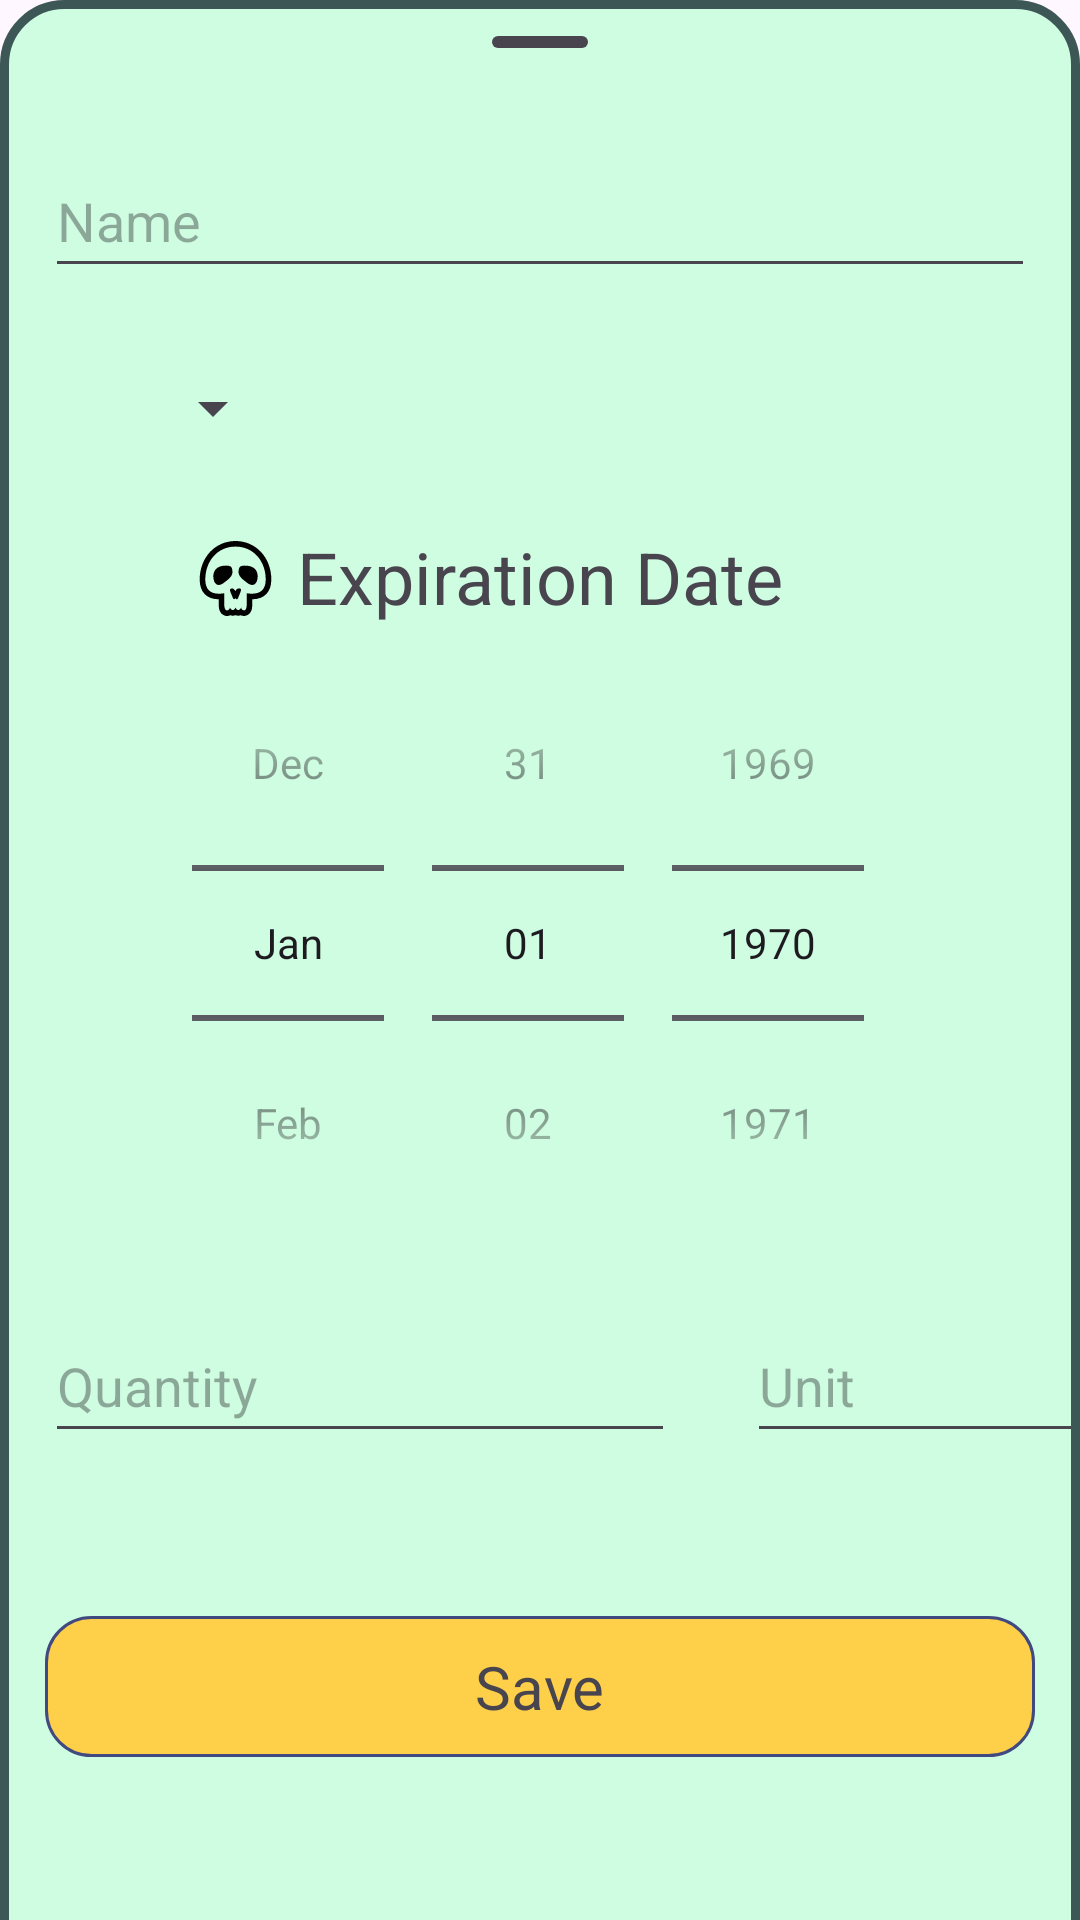

Named icons in this screenshot (1080px x 1920px) and their centers, point (x, y):
skull: point (235, 578)
